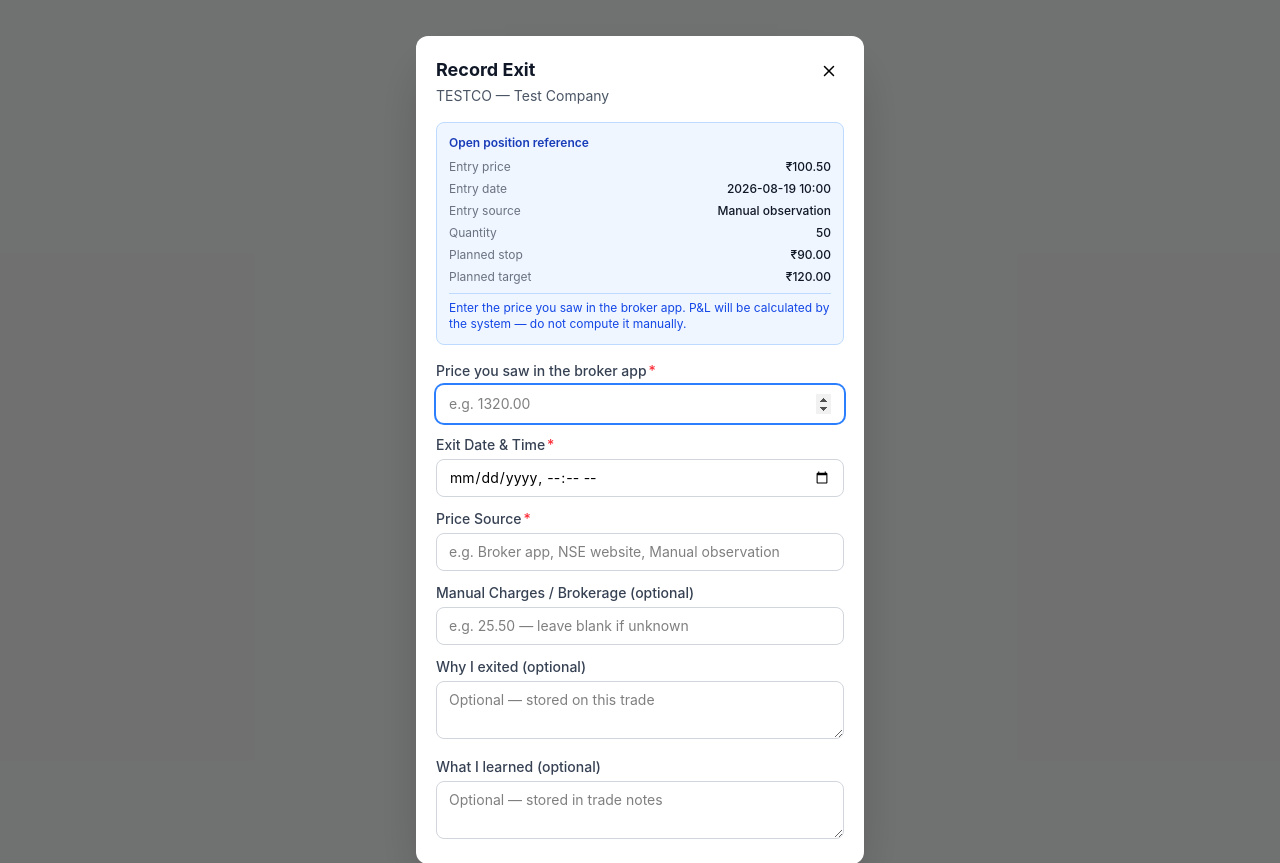
Test: CloseTradeModal › requires exit date and source before submit
Step 1. Type "120.5" into the number field labelled "Price you saw in the broker app*" → [640, 404], box [436,385,844,423]
(page scrolled)
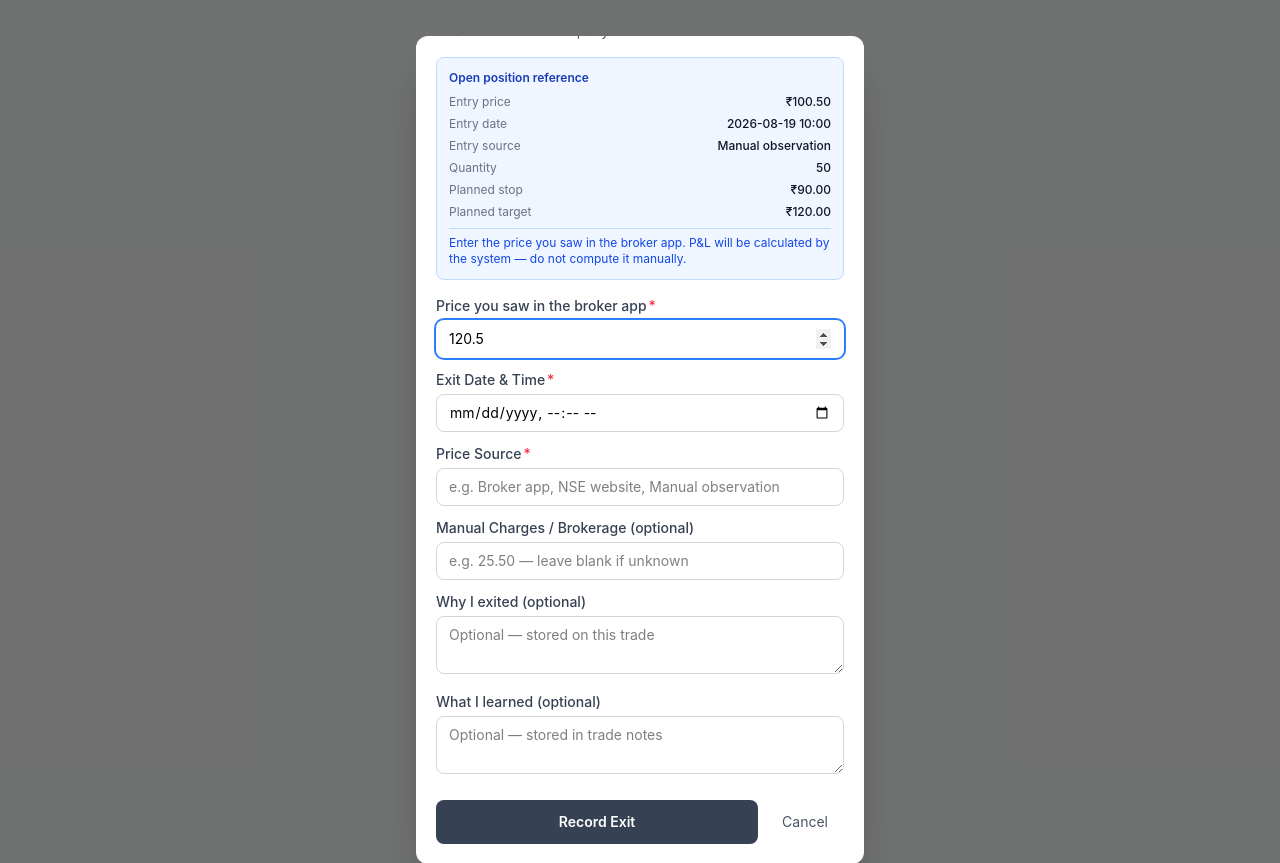
Step 2. Click the button with id "close-trade-submit" → [597, 822], box [436,800,758,844]
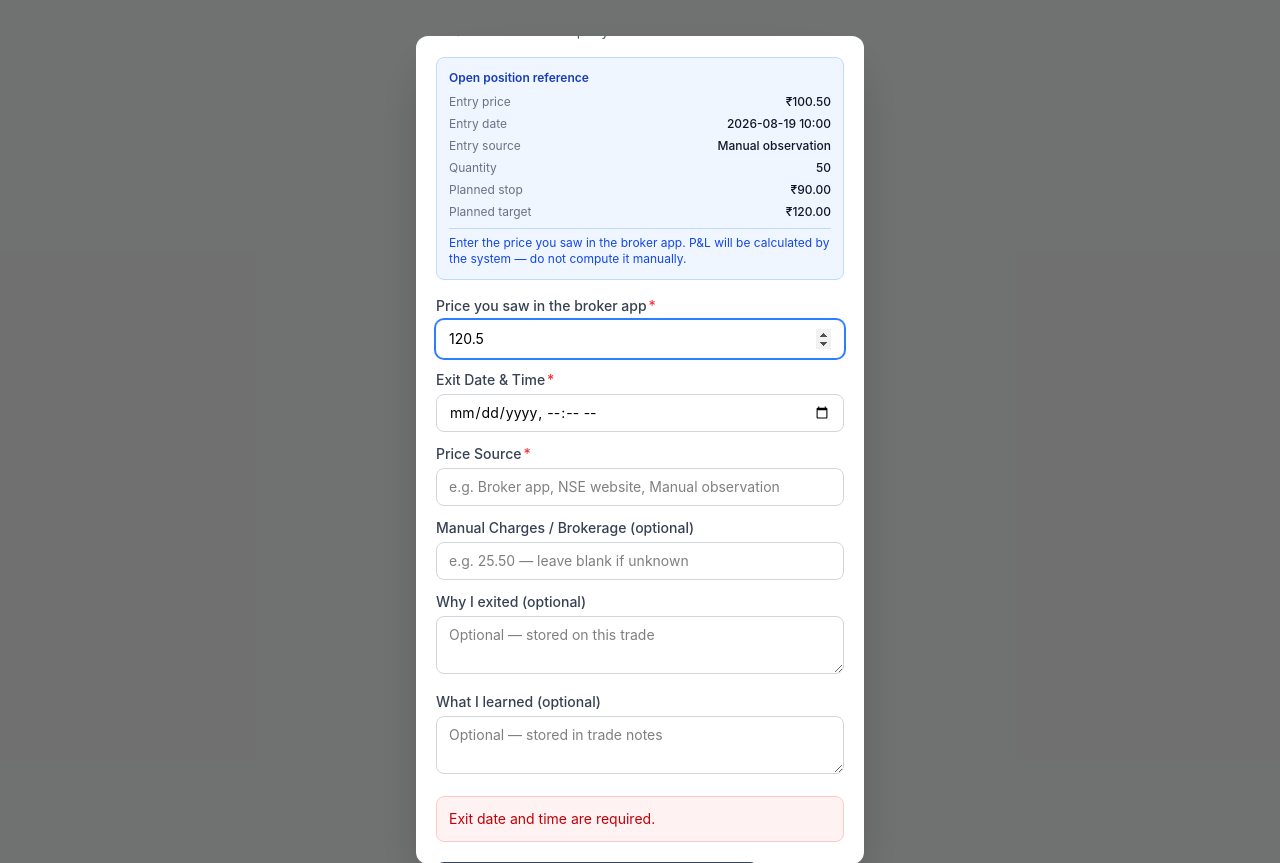
Now the text "Exit date and time are required." is shown, box [436,796,844,842]
Step 3. Type "2026-08-21T15:00" into the field labelled "Exit Date & Time*" → [640, 413], box [436,394,844,432]
(page scrolled)
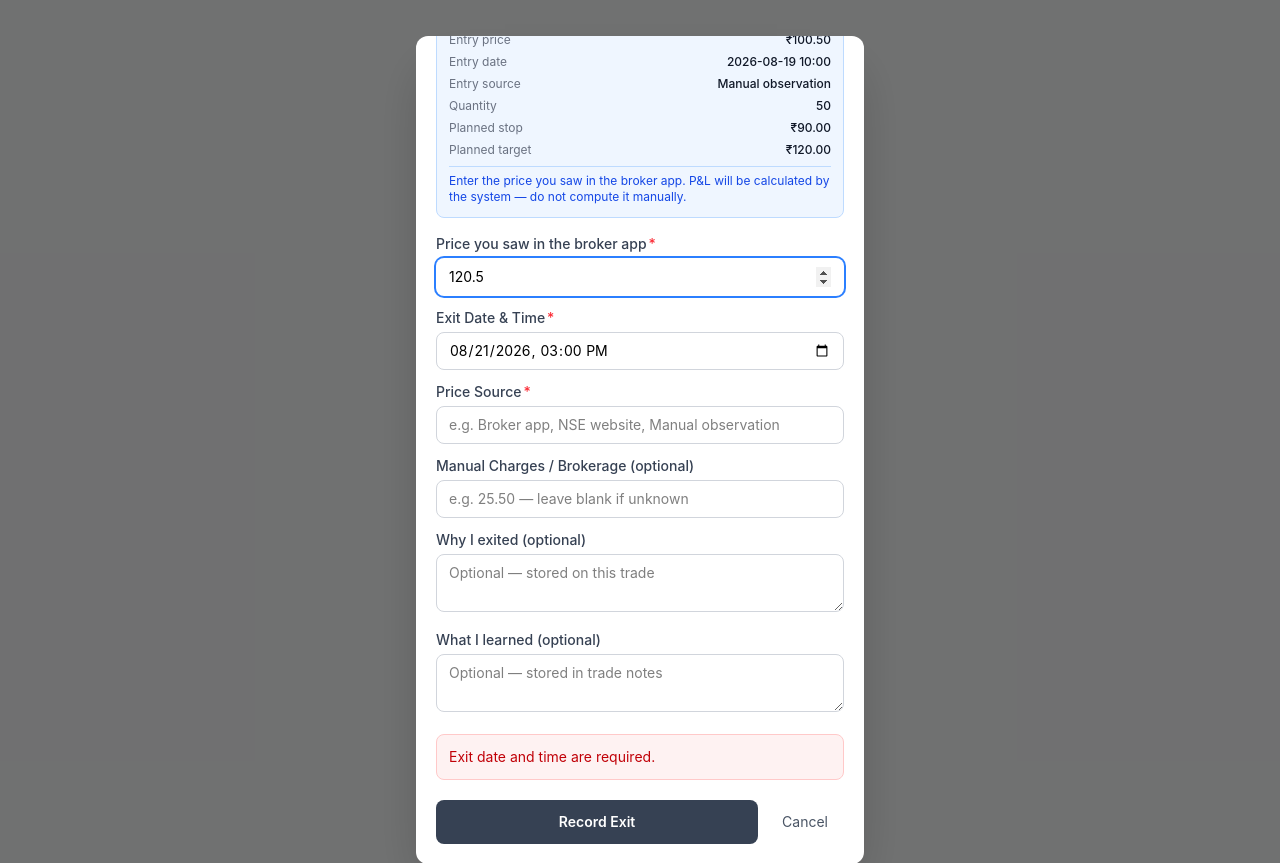
Step 4. Click the button with id "close-trade-submit" → [597, 822], box [436,800,758,844]
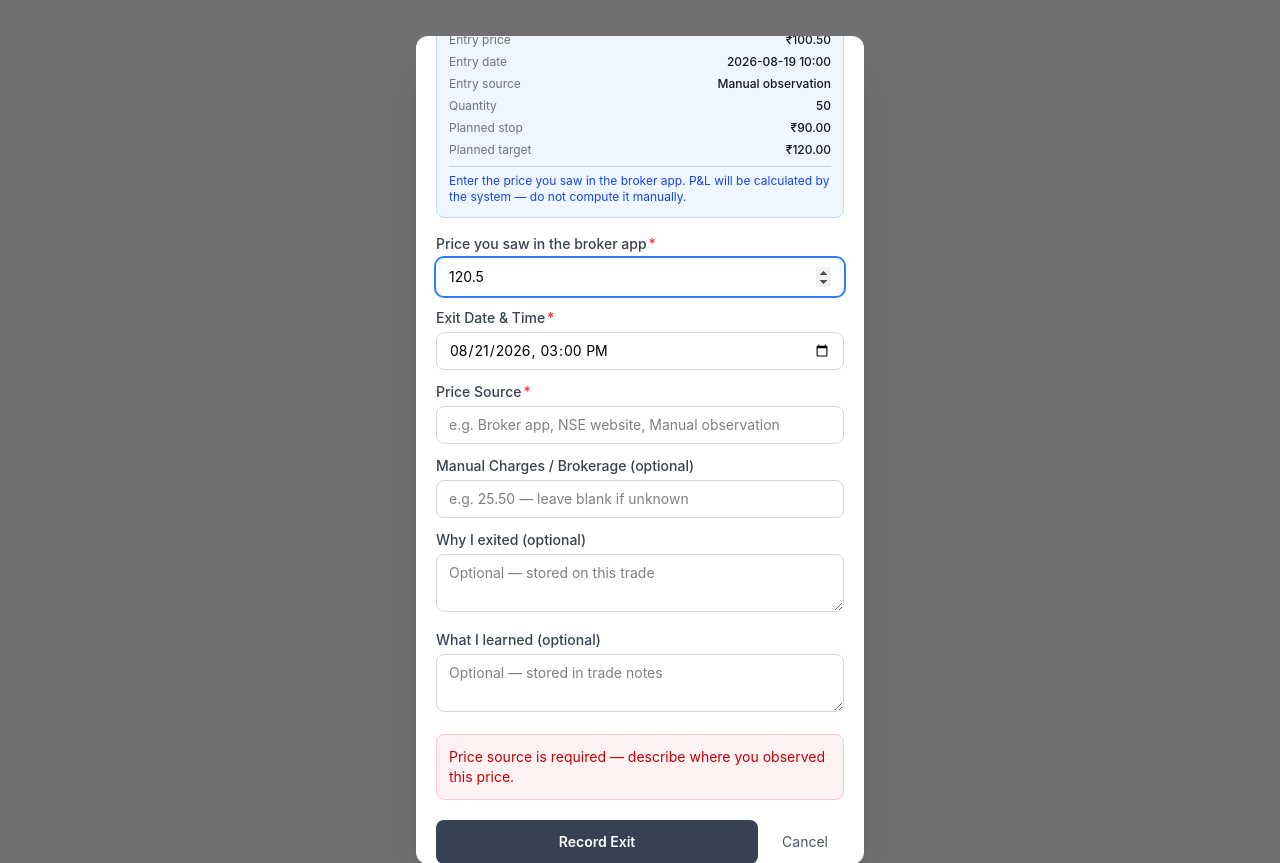
Now the text "Price source is required" is shown, box [449,748,825,785]
